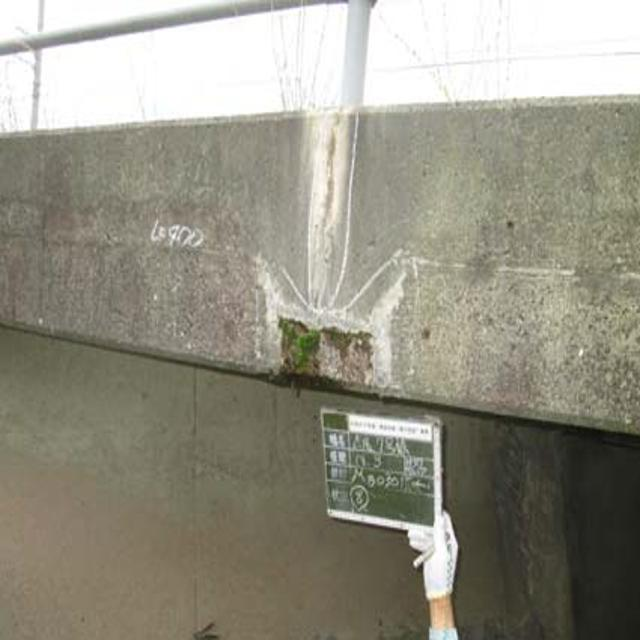freelime: (232, 107, 417, 382)
